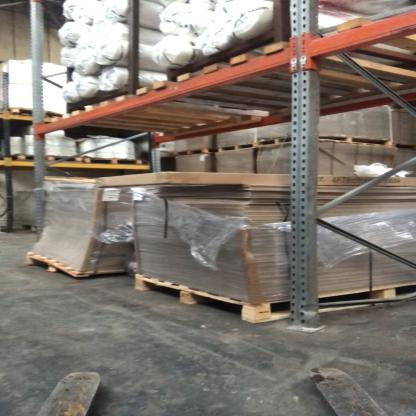vertical_damage: (281, 303, 329, 339)
